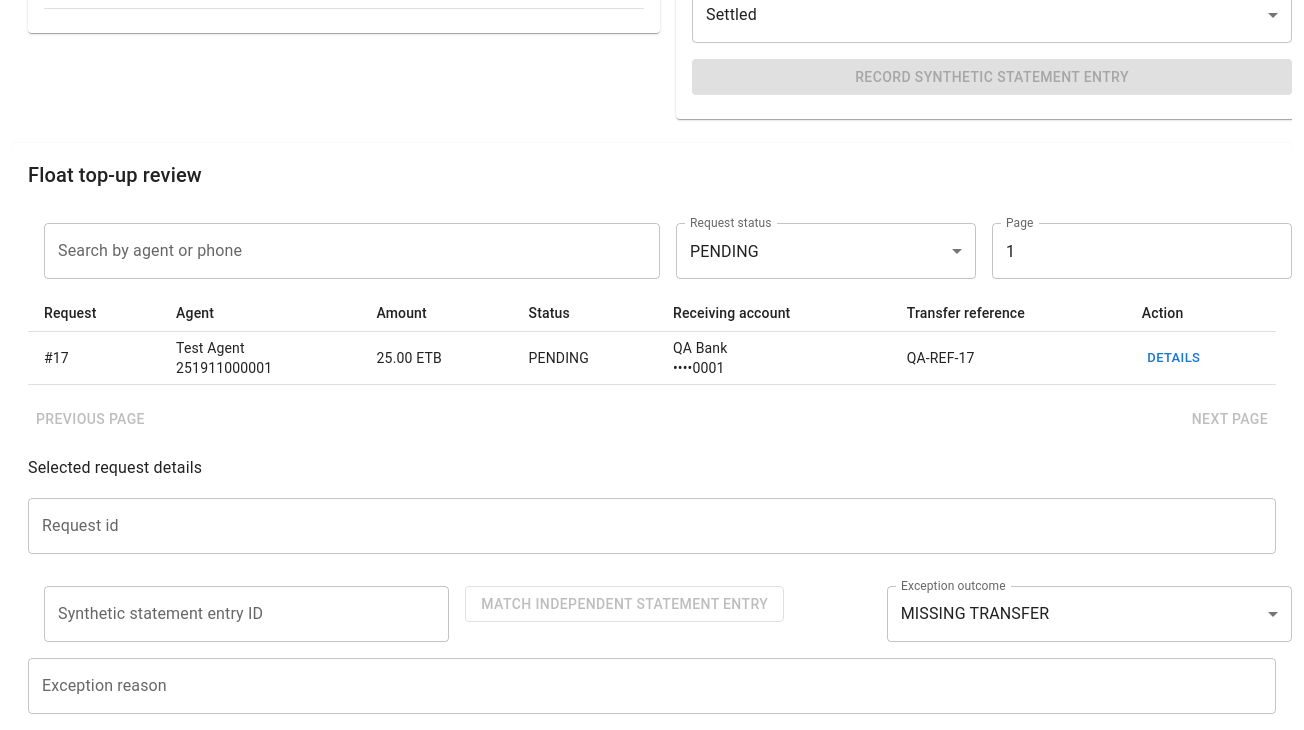
AgentsPage float top-up review › shows the queued transfer and opens its independent review details
This screenshot has width=1304, height=730.
(page scrolled)
Expected: the heading "Float top-up review" is shown, top-left (28, 163), bottom-right (202, 187)
Expected: the text "QA-REF-17" is shown, top-left (891, 332), bottom-right (1126, 385)
Click the button "Details" at (1174, 358), box top-left (1142, 343), bottom-right (1206, 374)
(page scrolled)
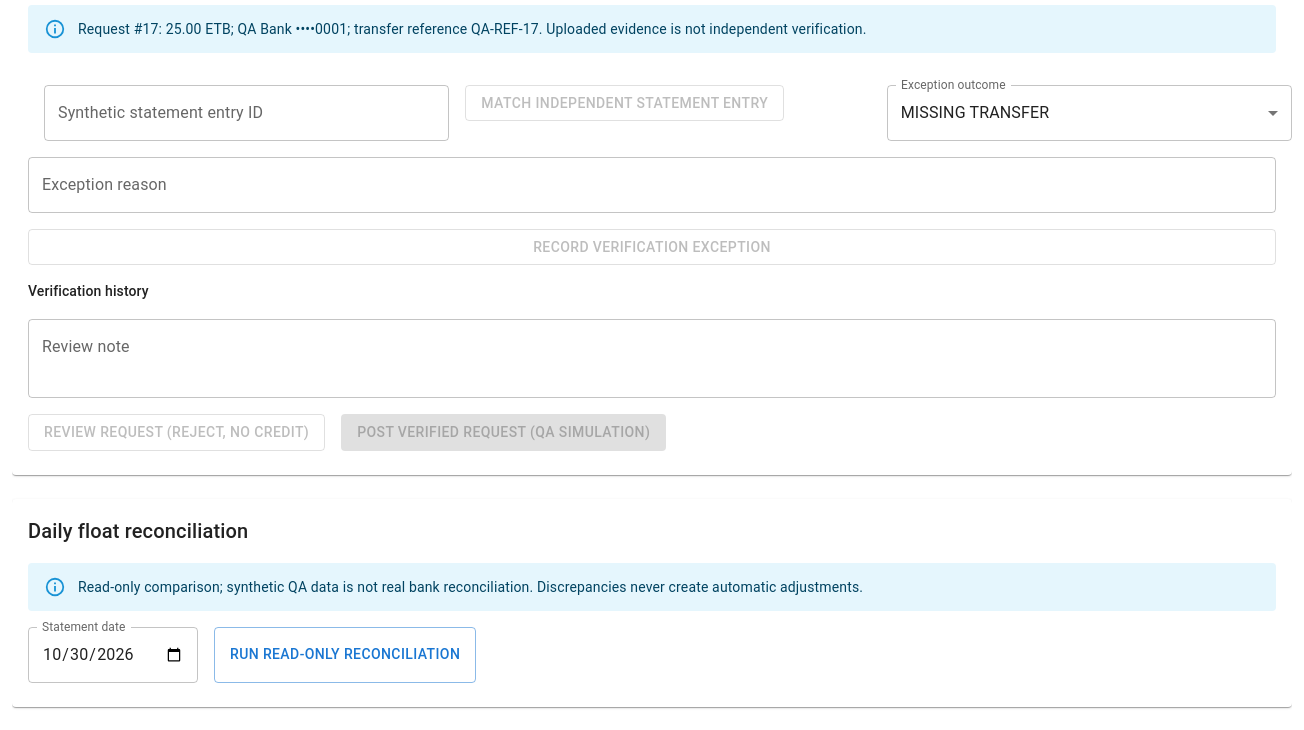
Now the text "Request #17: 25.00 ETB" is shown, box top-left (78, 21), bottom-right (866, 37)
Type "QA rejection" into the text box labelled "Review note" at (652, 359), box top-left (42, 336), bottom-right (1262, 382)
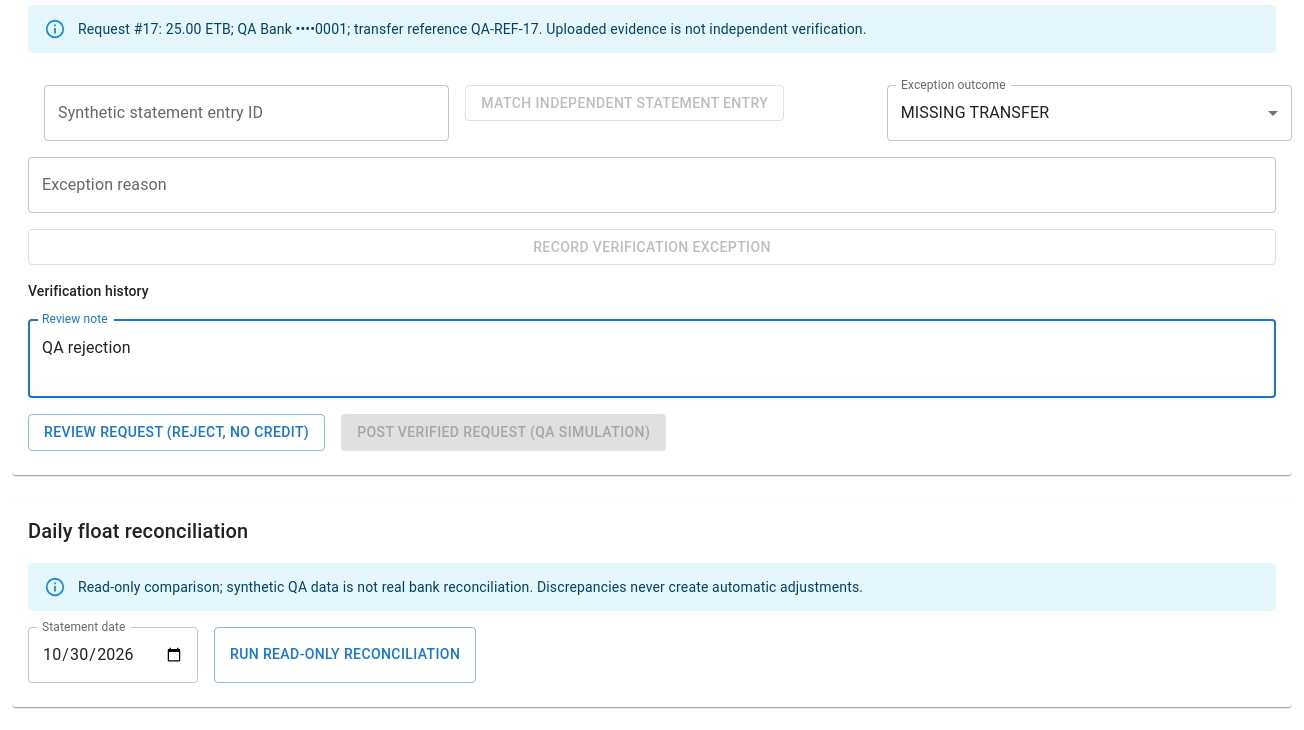
Expected: the button "Post verified request (QA simulation)" is disabled, top-left (341, 414), bottom-right (666, 451)
Now the button "Review request (reject, no credit)" is enabled, box top-left (28, 414), bottom-right (325, 451)
